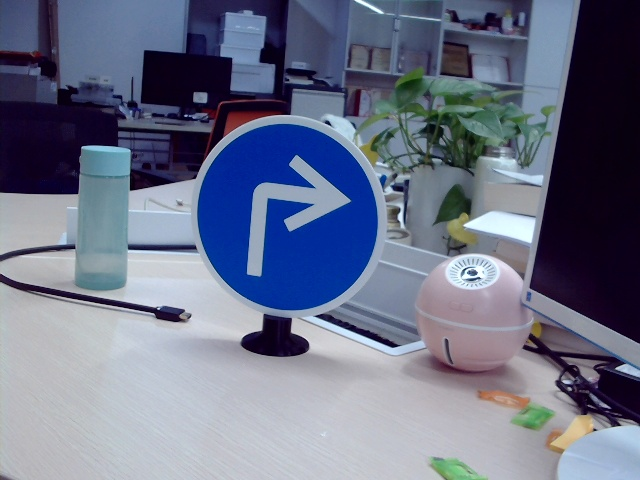turn_right: (246, 146, 345, 281)
